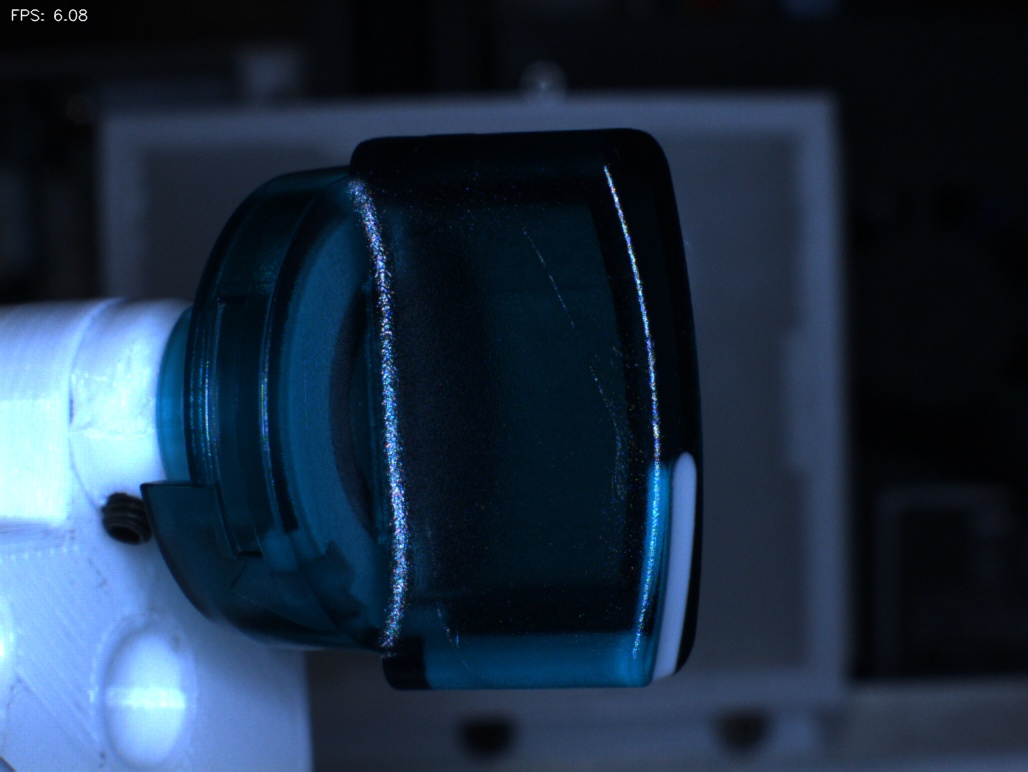Givrage: (576, 361, 646, 512), (507, 223, 586, 347)
